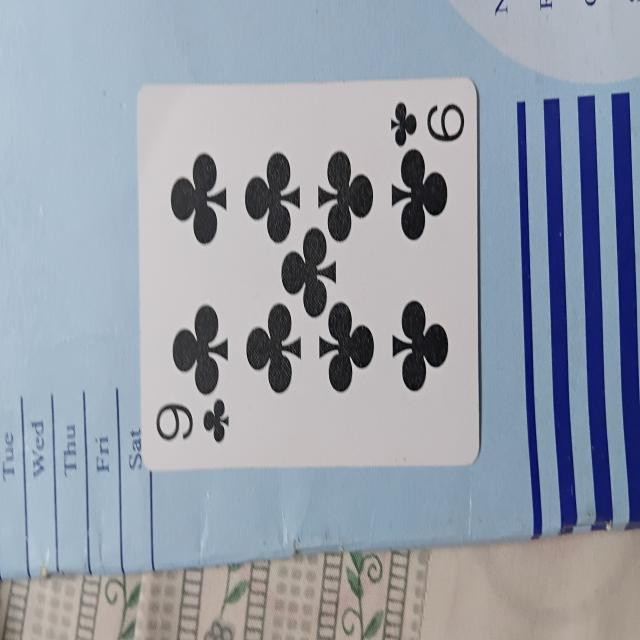9C: (137, 81, 479, 464)
